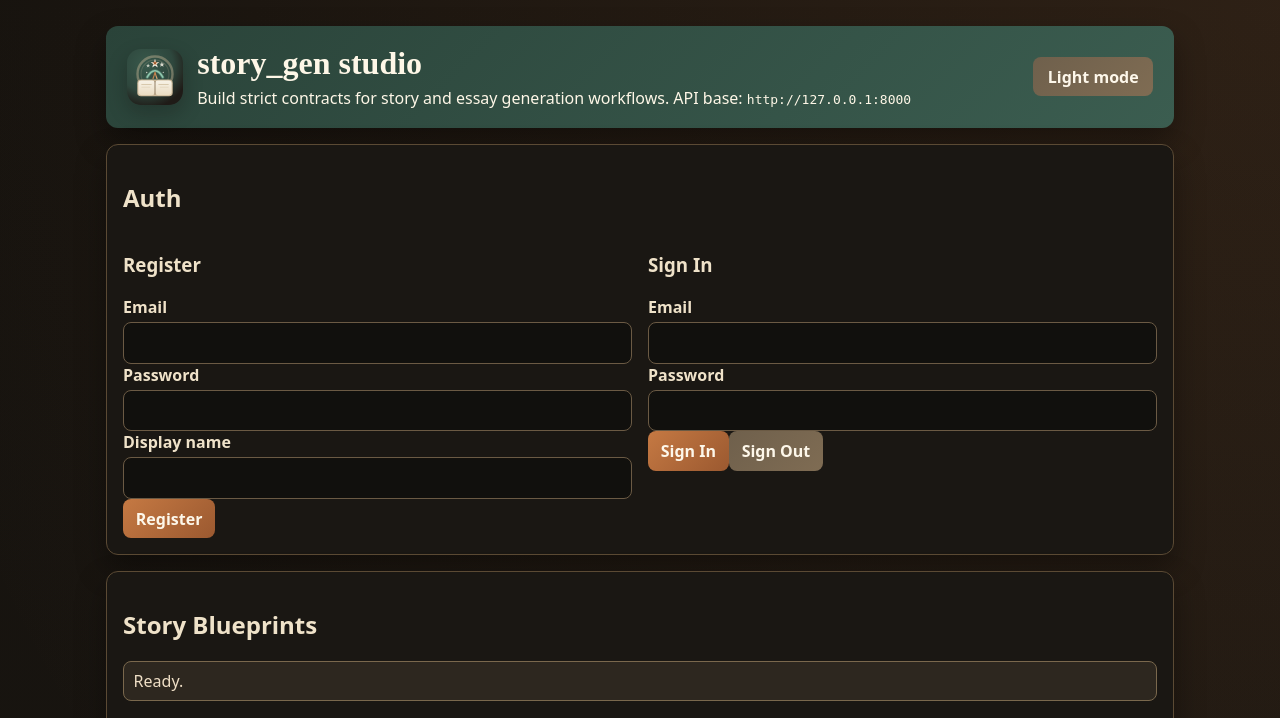
Test: App › defaults to dark mode and toggles to light mode
The image size is (1280, 718).
Click the button "Light mode" at (1093,77), box [1033,57,1153,96]
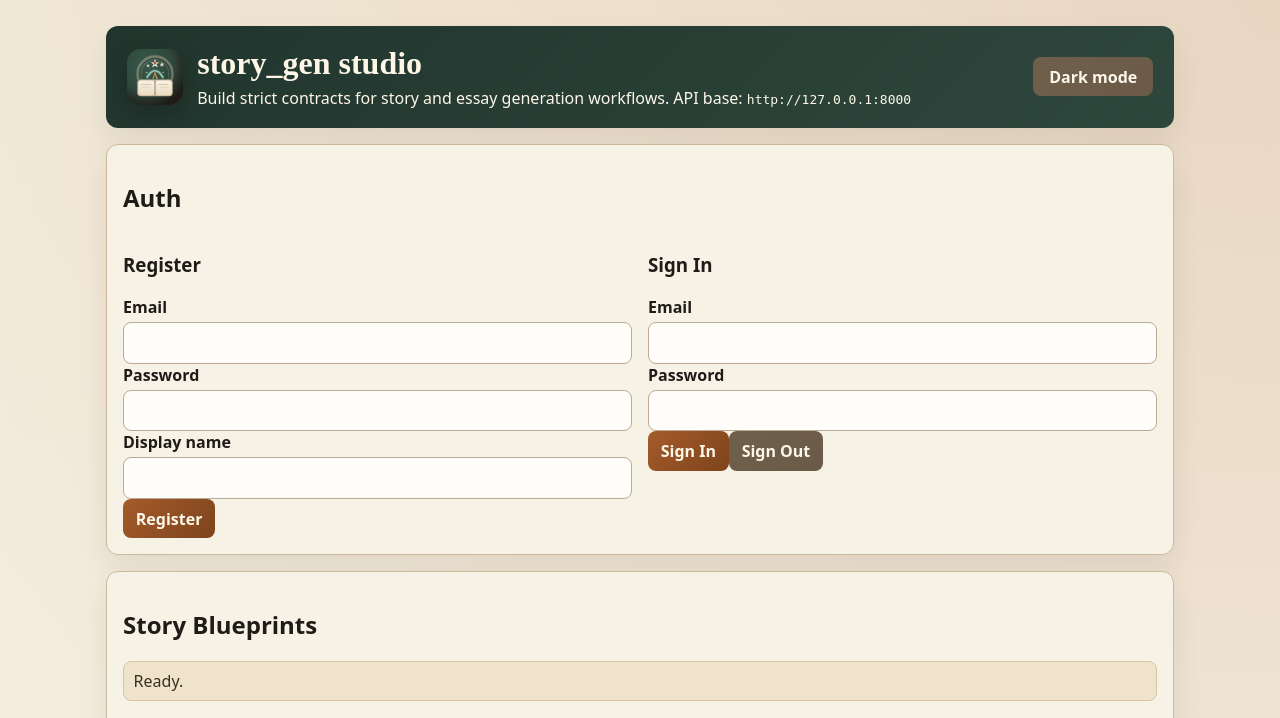
Result: the button "Dark mode" is shown at [1033,57,1153,96]
